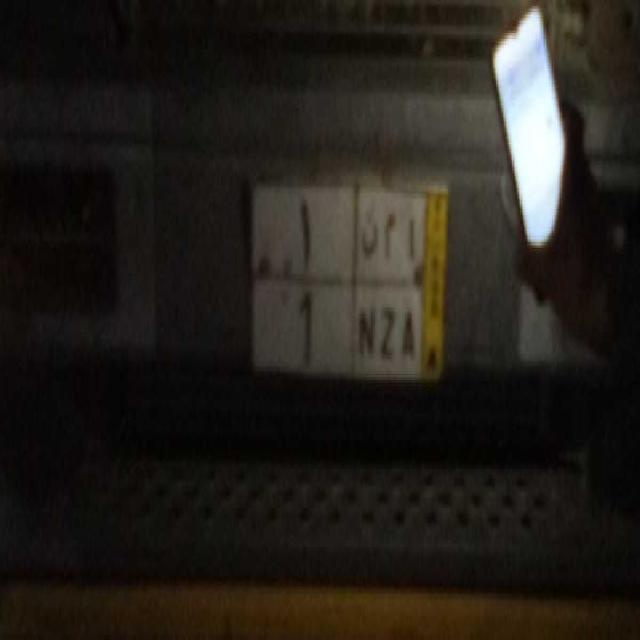license_plate: (254, 266, 424, 386)
